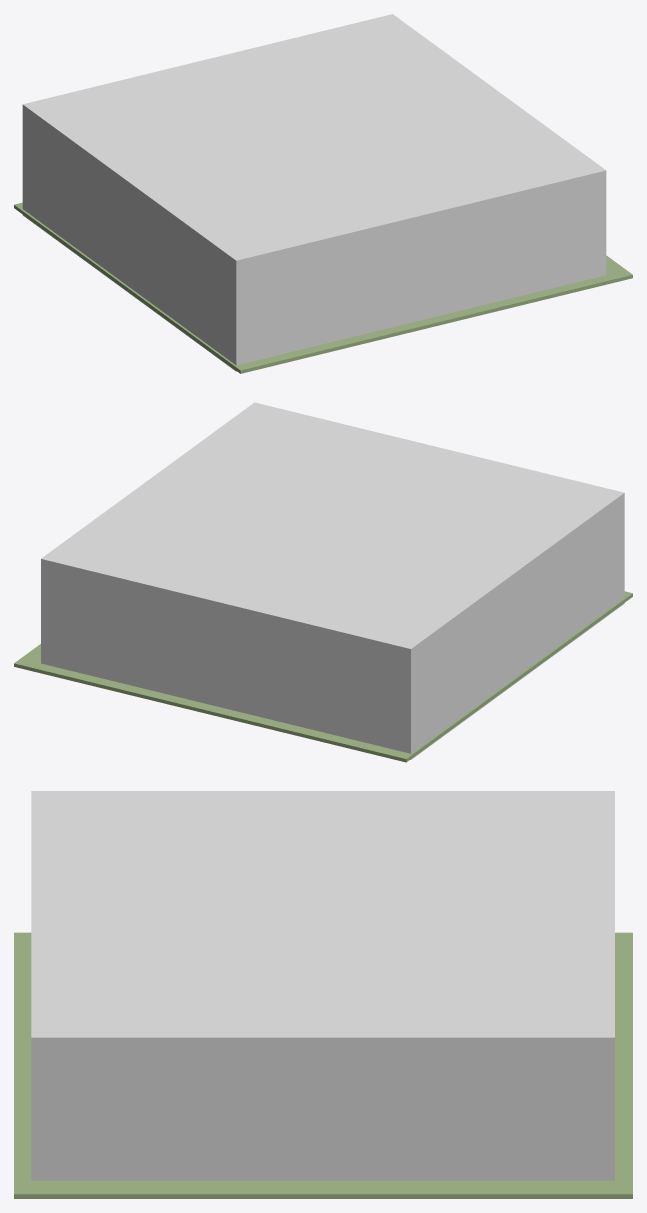
Rendered from tutorial_castle_town.glb.
The picture shows the model from 3 angles, top to bottom: view 1: azimuth 30°, elevation 25°; view 2: azimuth 150°, elevation 25°; view 3: azimuth 270°, elevation 25°; orthographic projection. The views are drawn at different scales.
Parts seen in each view (by area): view 1: Cube, ground; view 2: Cube, ground; view 3: Cube, ground.
Boxes of the visible parts, <box> form: Cube: <box>22,14,606,371</box>; ground: <box>14,202,632,373</box>; Cube: <box>41,402,624,759</box>; ground: <box>14,591,632,762</box>; Cube: <box>31,791,614,1180</box>; ground: <box>14,932,632,1198</box>.
Size of the model in its own units: 733 by 198 by 733.
